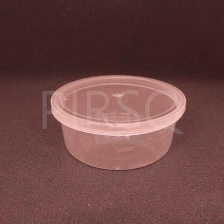plastic_box: (44, 69, 191, 174)
